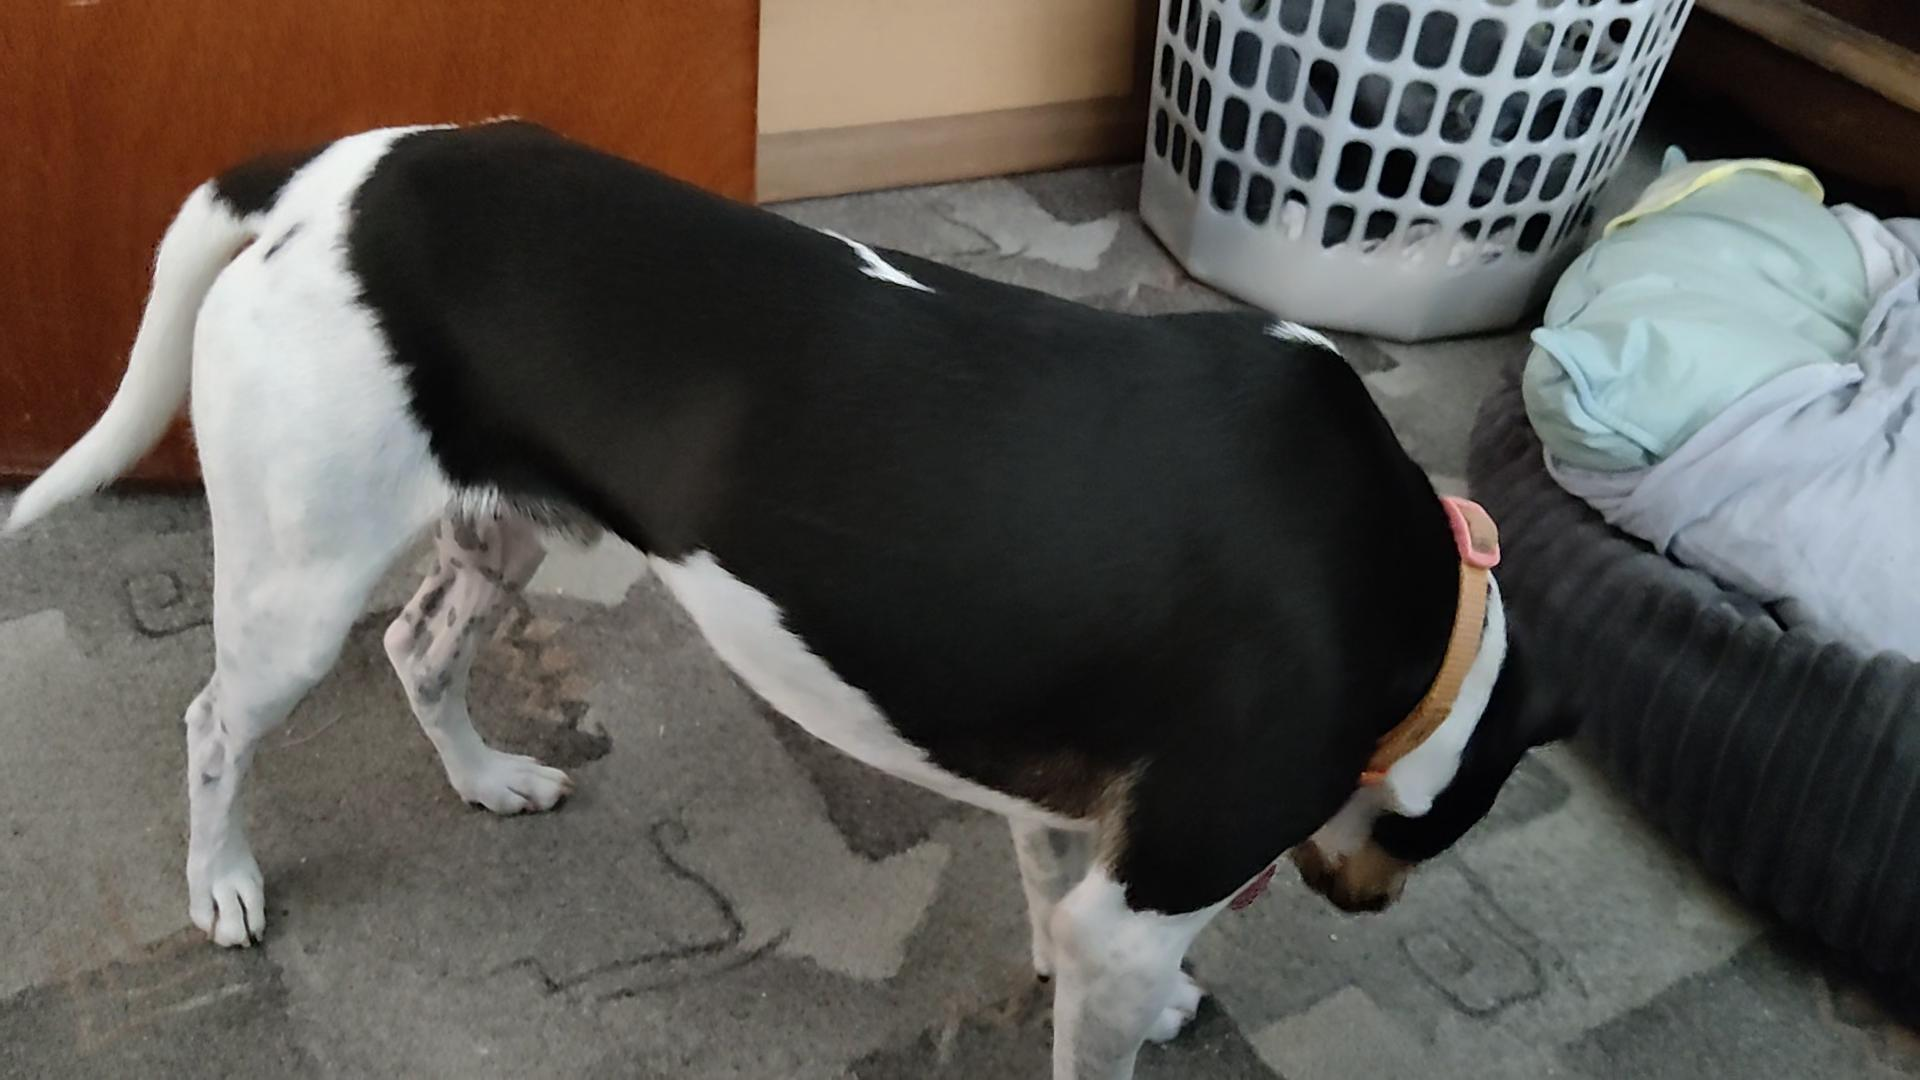Dog: (0, 109, 1598, 1079)
